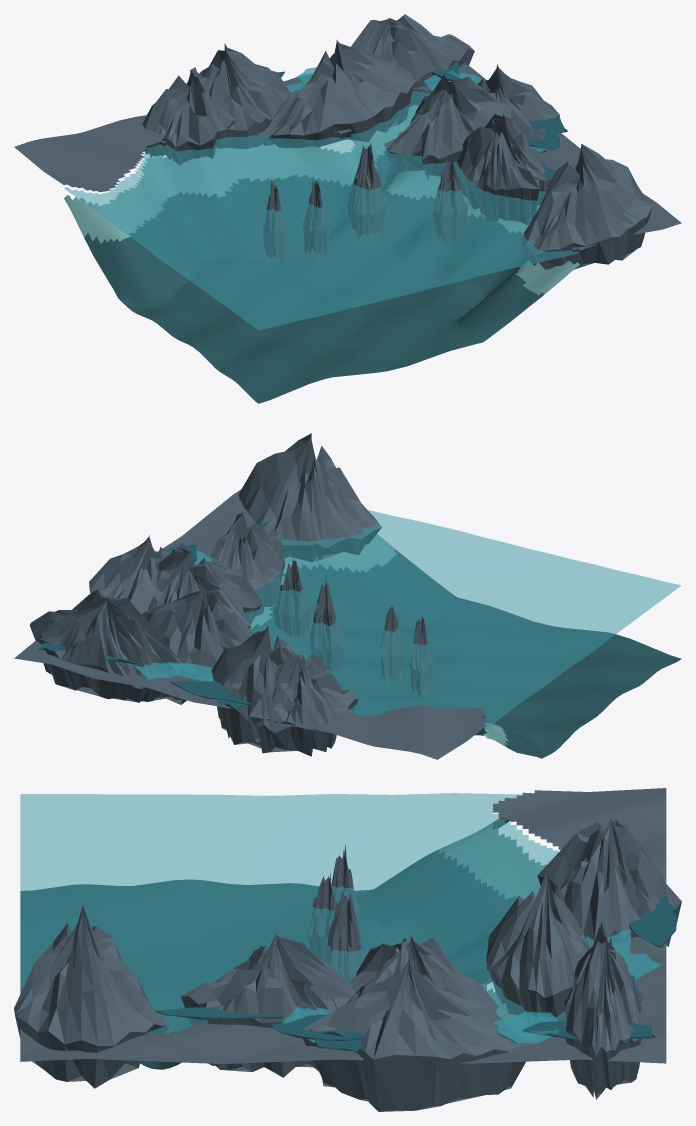
Rendered from water_tile_05.glb.
The picture shows the model from 3 angles, top to bottom: view 1: azimuth 30°, elevation 25°; view 2: azimuth 150°, elevation 25°; view 3: azimuth 270°, elevation 25°; orthographic projection. The views are drawn at different scales.
Parts seen in each view (by area): view 1: submerged mineral riverbed.005, glacial water surface 05, visible shallow mineral shelves.005, angular fractured shoreline ledge.067, angular fractured shoreline ledge.061, single continuous dark slate shoreline.005, angular fractured shoreline ledge.064, angular fractured shoreline ledge.065, angular fractured shoreline ledge.062, angular fractured shoreline ledge.060, angular fractured shoreline ledge.063, angular fractured shoreline ledge.066 (+4 smaller); view 2: glacial water surface 05, submerged mineral riverbed.005, angular fractured shoreline ledge.067, single continuous dark slate shoreline.005, angular fractured shoreline ledge.063, angular fractured shoreline ledge.062, angular fractured shoreline ledge.060, angular fractured shoreline ledge.061, angular fractured shoreline ledge.065, angular fractured shoreline ledge.064, angular fractured shoreline ledge.066, visible shallow mineral shelves.005 (+7 smaller); view 3: glacial water surface 05, submerged mineral riverbed.005, single continuous dark slate shoreline.005, angular fractured shoreline ledge.066, angular fractured shoreline ledge.067, angular fractured shoreline ledge.064, angular fractured shoreline ledge.061, angular fractured shoreline ledge.063, angular fractured shoreline ledge.062, visible shallow mineral shelves.005, angular fractured shoreline ledge.065, underwater worn boulder.018 (+11 smaller).
Part boxes in pixels (<box>): submerged mineral riverbed.005: <box>84,151,544,403</box>; glacial water surface 05: <box>64,91,579,329</box>; visible shallow mineral shelves.005: <box>64,105,579,295</box>; angular fractured shoreline ledge.067: <box>521,144,652,269</box>; angular fractured shoreline ledge.061: <box>257,39,414,148</box>; single continuous dark slate shoreline.005: <box>14,63,681,250</box>; angular fractured shoreline ledge.064: <box>456,114,550,224</box>; angular fractured shoreline ledge.065: <box>384,75,511,179</box>; angular fractured shoreline ledge.062: <box>199,43,290,148</box>; angular fractured shoreline ledge.060: <box>142,67,235,165</box>; angular fractured shoreline ledge.063: <box>351,14,474,107</box>; angular fractured shoreline ledge.066: <box>477,64,559,152</box>; glacial water surface 05: <box>244,510,681,727</box>; submerged mineral riverbed.005: <box>250,549,681,758</box>; angular fractured shoreline ledge.067: <box>238,433,381,562</box>; single continuous dark slate shoreline.005: <box>14,489,487,759</box>; angular fractured shoreline ledge.063: <box>29,589,190,704</box>; angular fractured shoreline ledge.062: <box>211,625,312,756</box>; angular fractured shoreline ledge.060: <box>248,654,358,751</box>; angular fractured shoreline ledge.061: <box>142,586,252,676</box>; angular fractured shoreline ledge.065: <box>148,544,262,629</box>; angular fractured shoreline ledge.064: <box>209,512,284,616</box>; angular fractured shoreline ledge.066: <box>89,535,171,613</box>; visible shallow mineral shelves.005: <box>250,534,508,747</box>; glacial water surface 05: <box>20,793,566,1034</box>; submerged mineral riverbed.005: <box>20,849,516,1069</box>; single continuous dark slate shoreline.005: <box>20,788,666,1063</box>; angular fractured shoreline ledge.066: <box>302,956,525,1111</box>; angular fractured shoreline ledge.067: <box>14,905,169,1088</box>; angular fractured shoreline ledge.064: <box>181,933,355,1077</box>; angular fractured shoreline ledge.061: <box>486,870,589,1020</box>; angular fractured shoreline ledge.063: <box>564,919,644,1099</box>; angular fractured shoreline ledge.062: <box>561,818,671,946</box>; visible shallow mineral shelves.005: <box>439,818,546,1019</box>; angular fractured shoreline ledge.065: <box>333,936,498,1011</box>; underwater worn boulder.018: <box>325,891,363,981</box>.
Size of the model in its own units: 1.03 by 0.3598 by 1.03.
